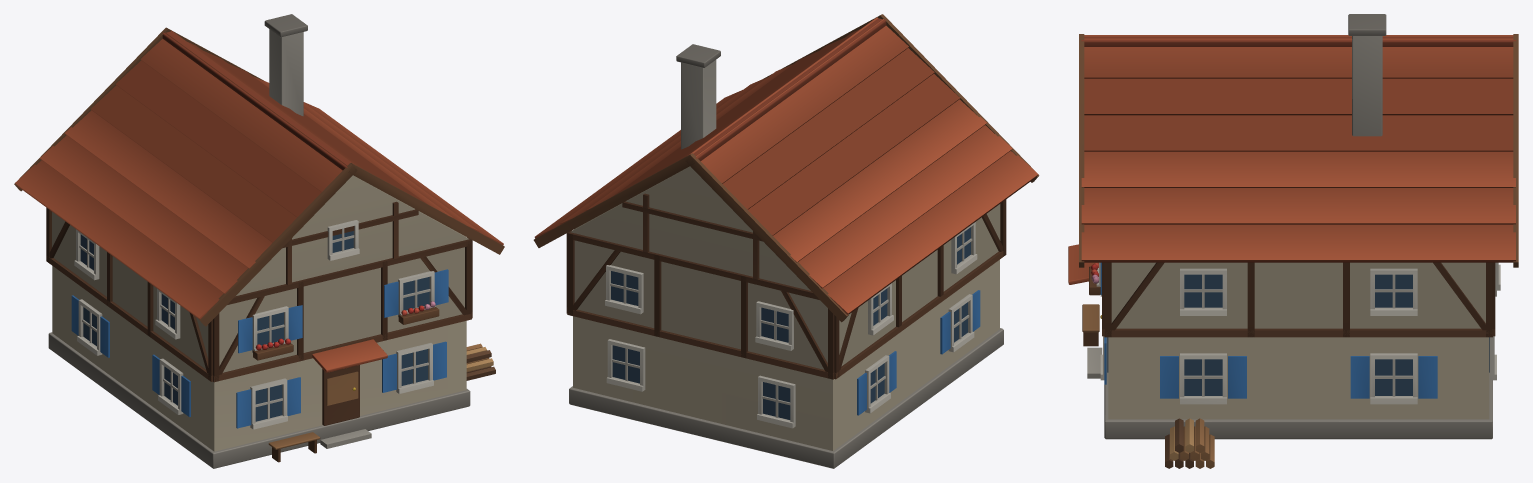
Rendered from prop.farmhouse.glb.
3 renders of one model, left to right at view 1: azimuth 30°, elevation 25°; view 2: azimuth 150°, elevation 25°; view 3: azimuth 270°, elevation 25°, orthographic. The views are drawn at different scales.
Parts seen in each view (by area): view 1: farmhouse; view 2: farmhouse; view 3: farmhouse.
Boxes of the visible parts, x1,y1,x2,y2 form: farmhouse: (14, 14, 504, 468); farmhouse: (533, 14, 1039, 468); farmhouse: (1068, 14, 1518, 468).
Bounding box in the file's own units: 11.83 × 10.9 × 11.82.
